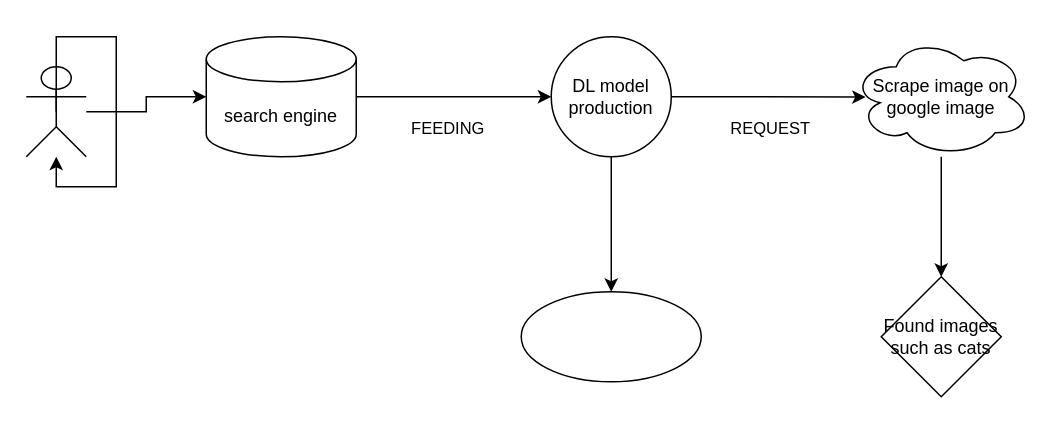
The diagram is 1058 pixels wide and 423 high, and some of its shapes have lost their labels. The shapes that lost their labels are listed below. From the top down, each one's centre as x and y in pixels, then its label:
the point at 55,111: Input
the point at 610,336: Response image classification : example a cat
